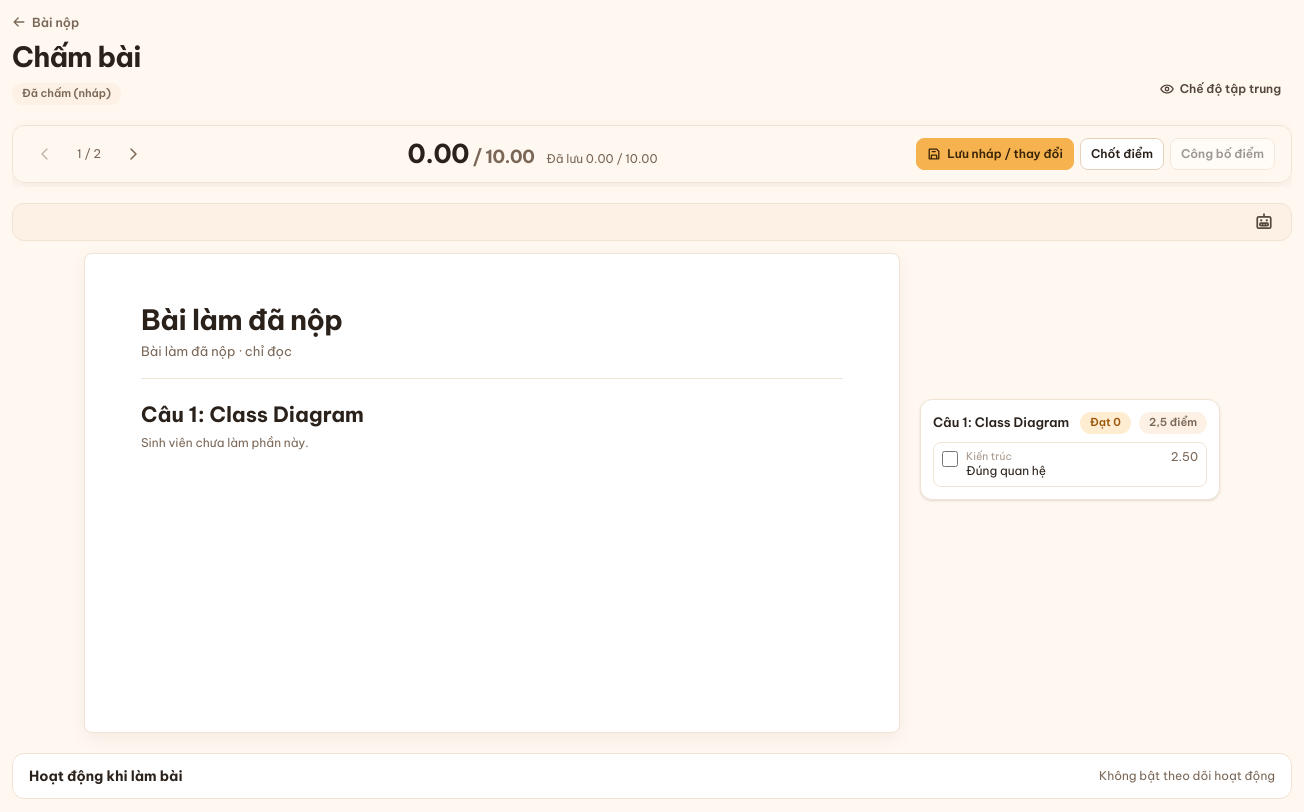
Scenario: shows a live score and named sections while AI is unavailable, without saving any grade
The image size is (1304, 812).
Click the checkbox labelled "Kiến trúc Đúng quan hệ 2.50": point(950, 459) [942,451,958,467]
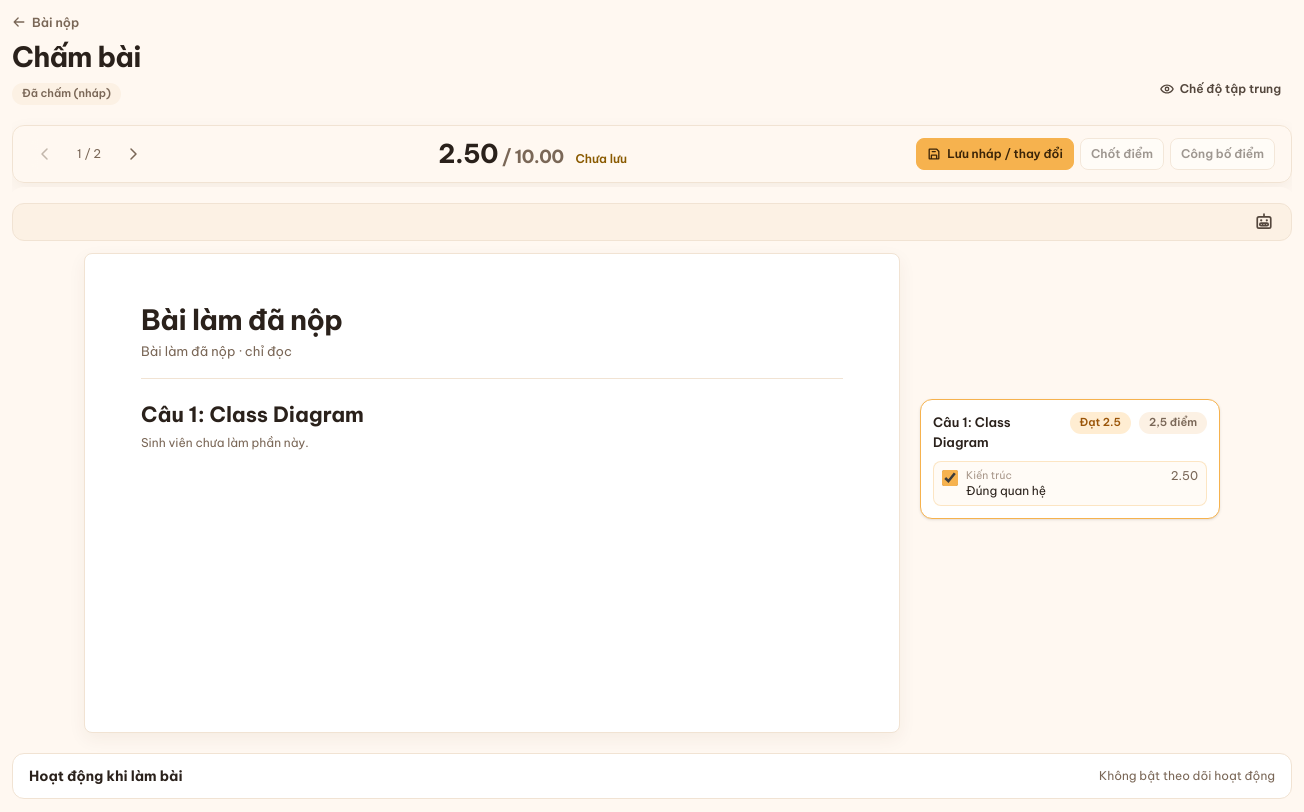
expect the element named "Điểm tạm tính" reads "2.50 / 10.00": met, box [438,141,564,167]
expect the element named "Rubric: Câu 1: Class Diagram" shows "Đạt 2.5": met, box [920,399,1220,519]
expect the button "Chốt điểm" is disabled: met, box [1080,138,1164,170]
